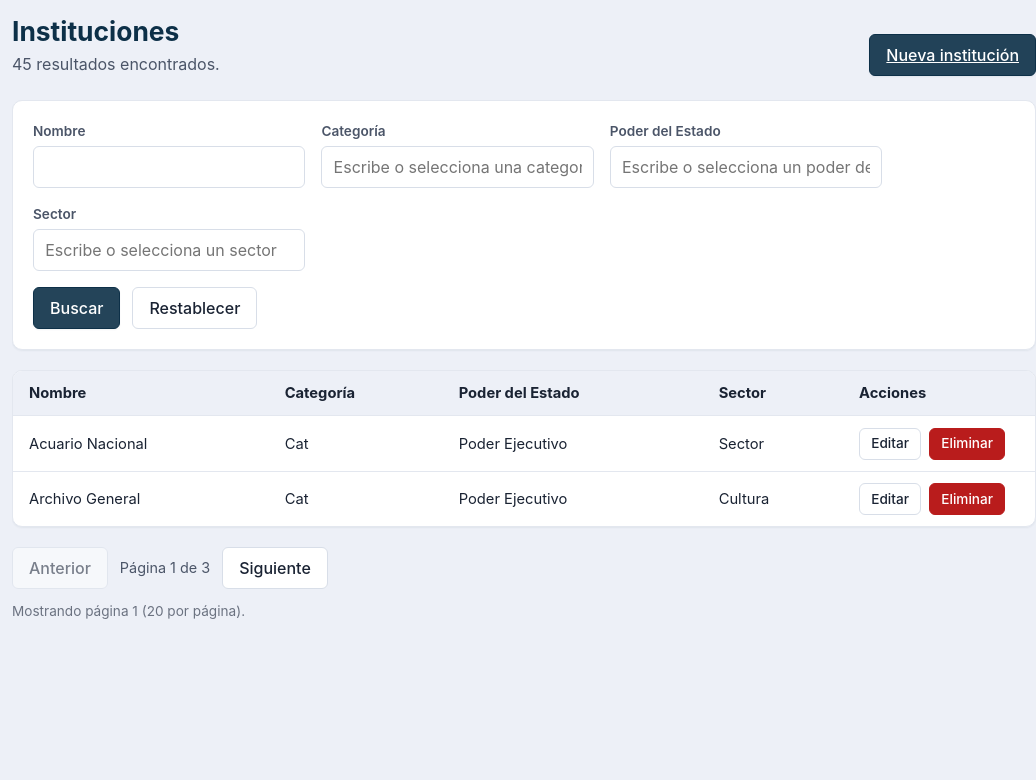
Test: InstitutionsPage › re-fetches when a filter is submitted
Expected: the text "Acuario Nacional" is shown, [13, 416, 269, 472]
Step 1. Type "Salud" into the field with test id "filter-name" → (169, 167), box [33, 146, 305, 188]
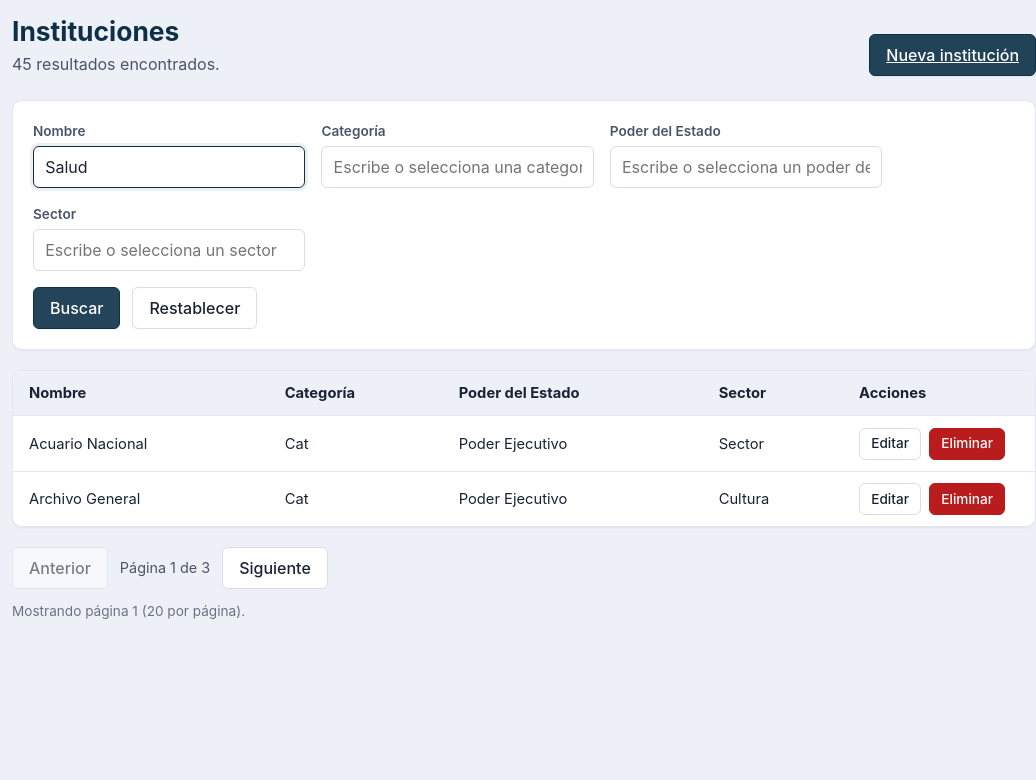
Step 2. Click the button "Buscar" → (77, 308), box [33, 287, 120, 329]
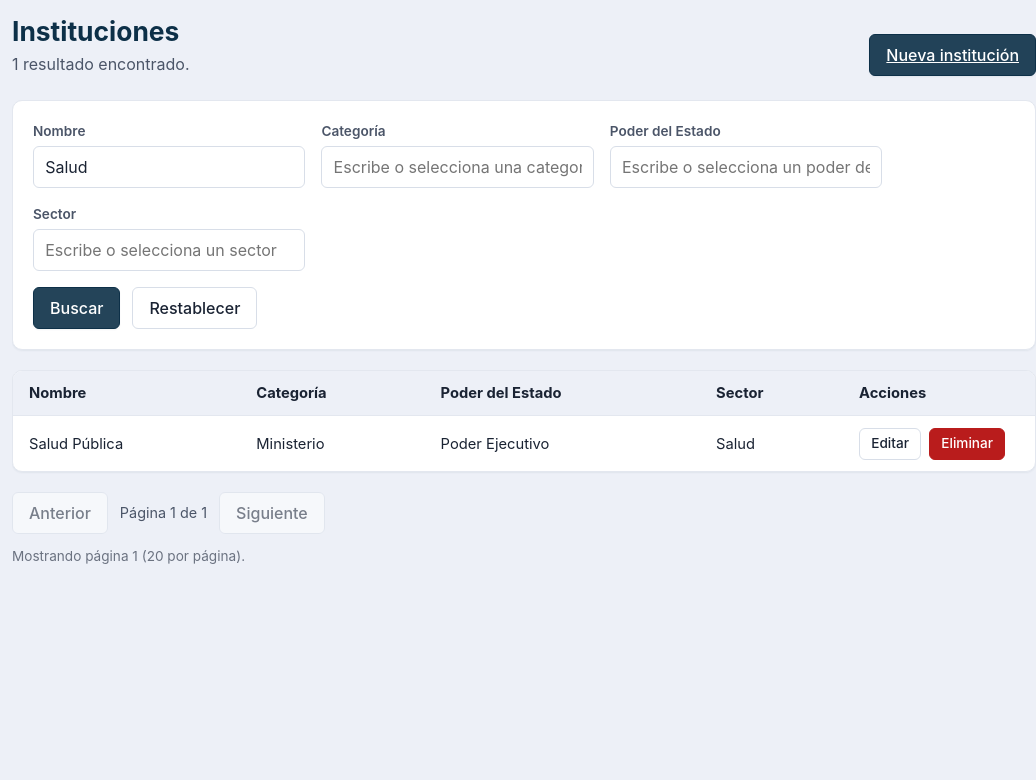
Expected: the text "Salud Pública" is shown, [13, 416, 240, 471]
